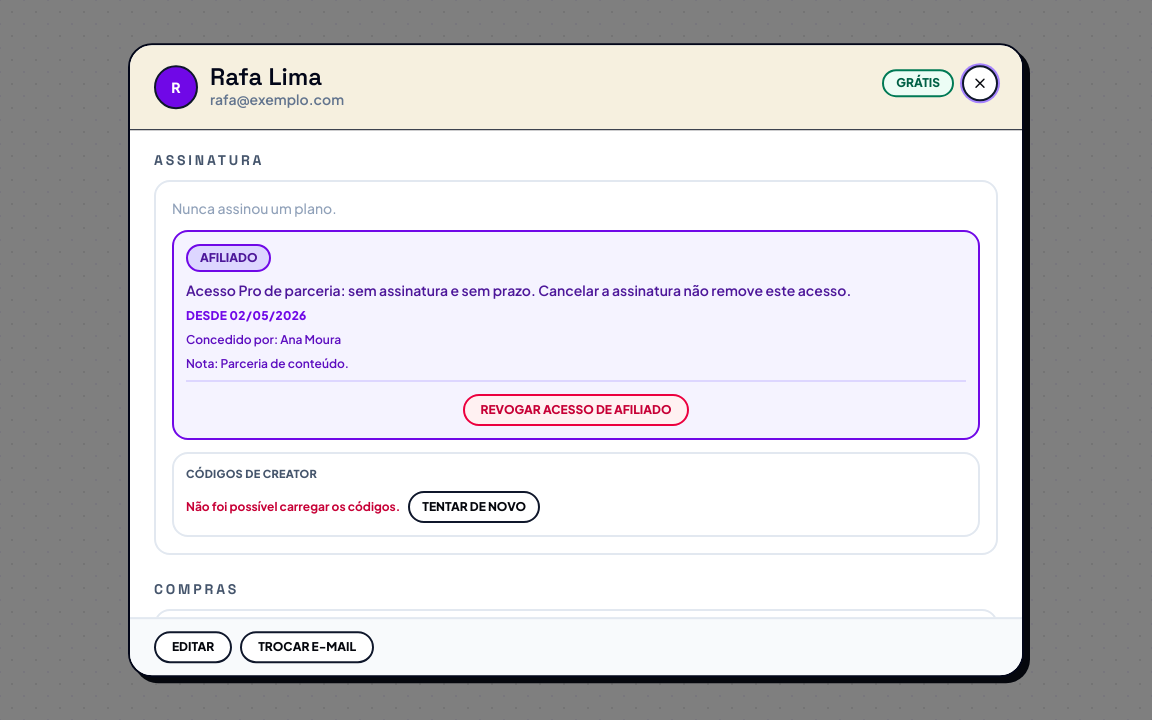
Scenario: o botao de revogar nomeia o tipo da concessao › AFILIADO: revogar e confirmar dizem afiliado, e nada diz influencer
Click the button "Revogar acesso de afiliado".
click(576, 410)  # box [462, 394, 689, 426]
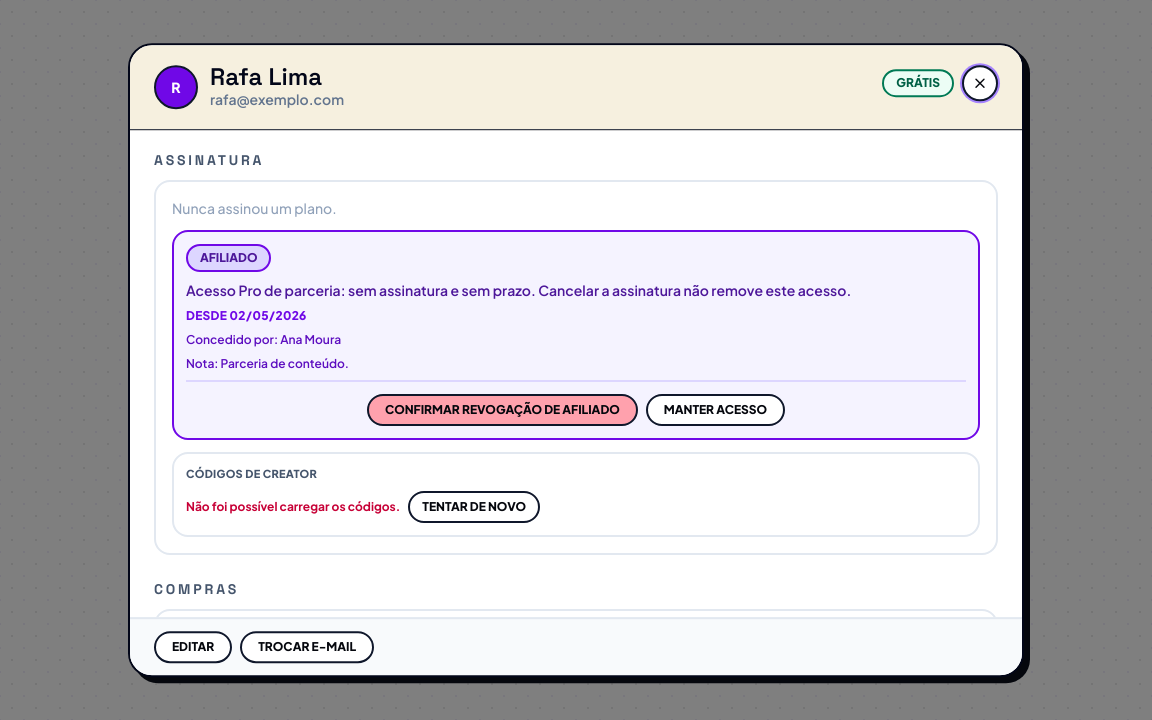
Now the button "Confirmar revogação de afiliado" is shown, box [367, 394, 638, 426]
